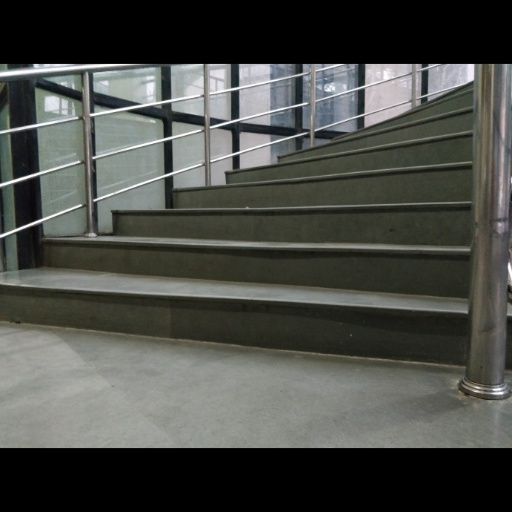Stairs: (0, 84, 472, 363)
